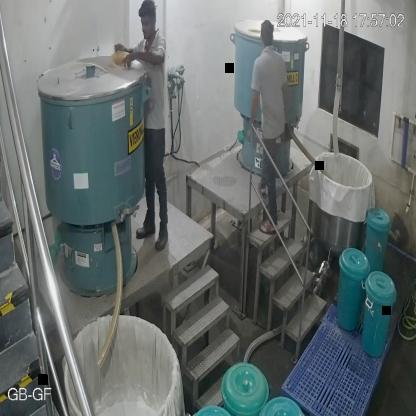no_shoes: (259, 217, 277, 237)
